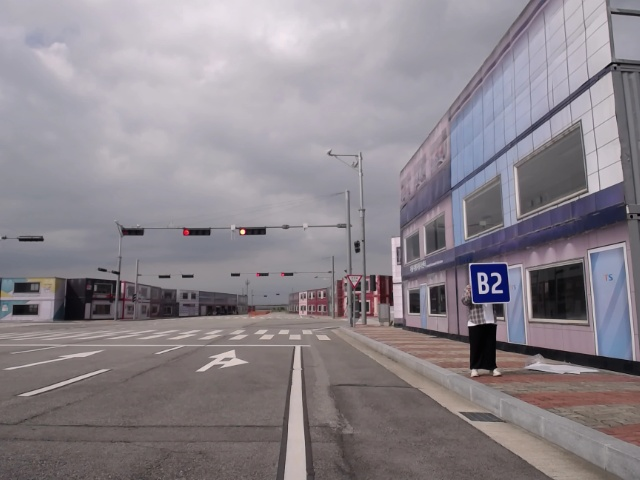delivery_b2: (468, 262, 513, 306)
red_4: (238, 225, 268, 238), (180, 227, 214, 238), (256, 271, 270, 279), (280, 271, 296, 278)
